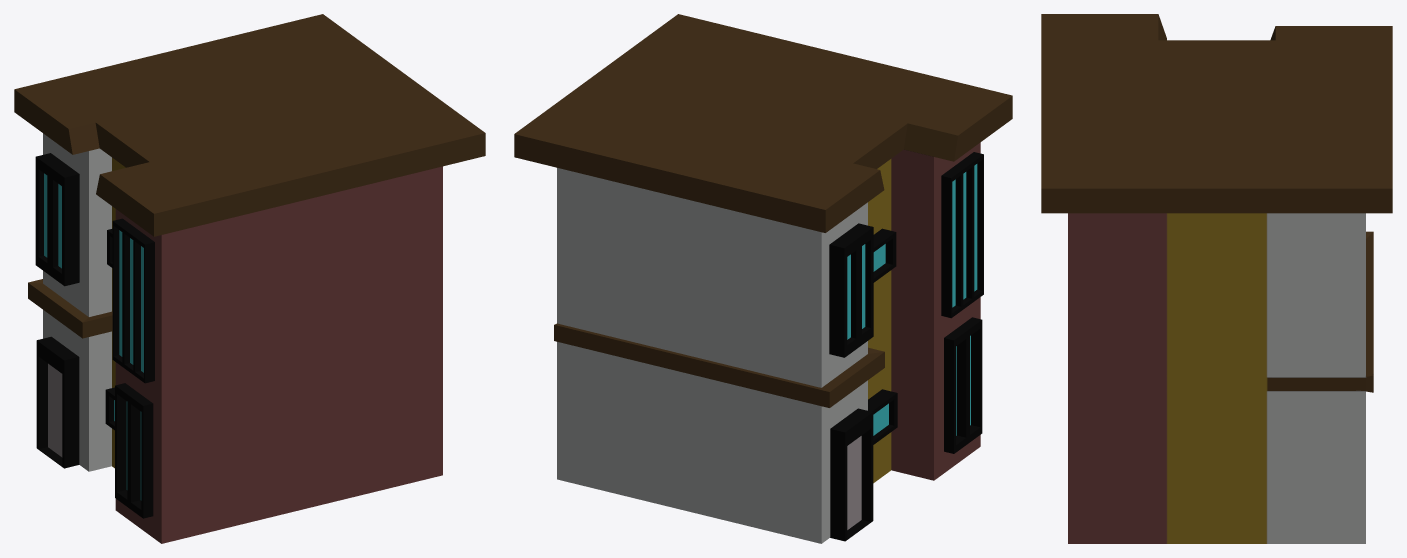
Rendered from building2.fbx.
The picture shows the model from 3 angles, left to right: view 1: azimuth 30°, elevation 25°; view 2: azimuth 150°, elevation 25°; view 3: azimuth 270°, elevation 25°; orthographic projection. The views are drawn at different scales.
Visible parts, largest first — view 1: building2; view 2: building2; view 3: building2.
Part boxes in pixels (x1,y1,x2,y2): building2: (14,14,485,543); building2: (514,14,1012,543); building2: (1041,14,1392,543).
Bounding box in the file's own units: 1622 × 1608 × 1378.
